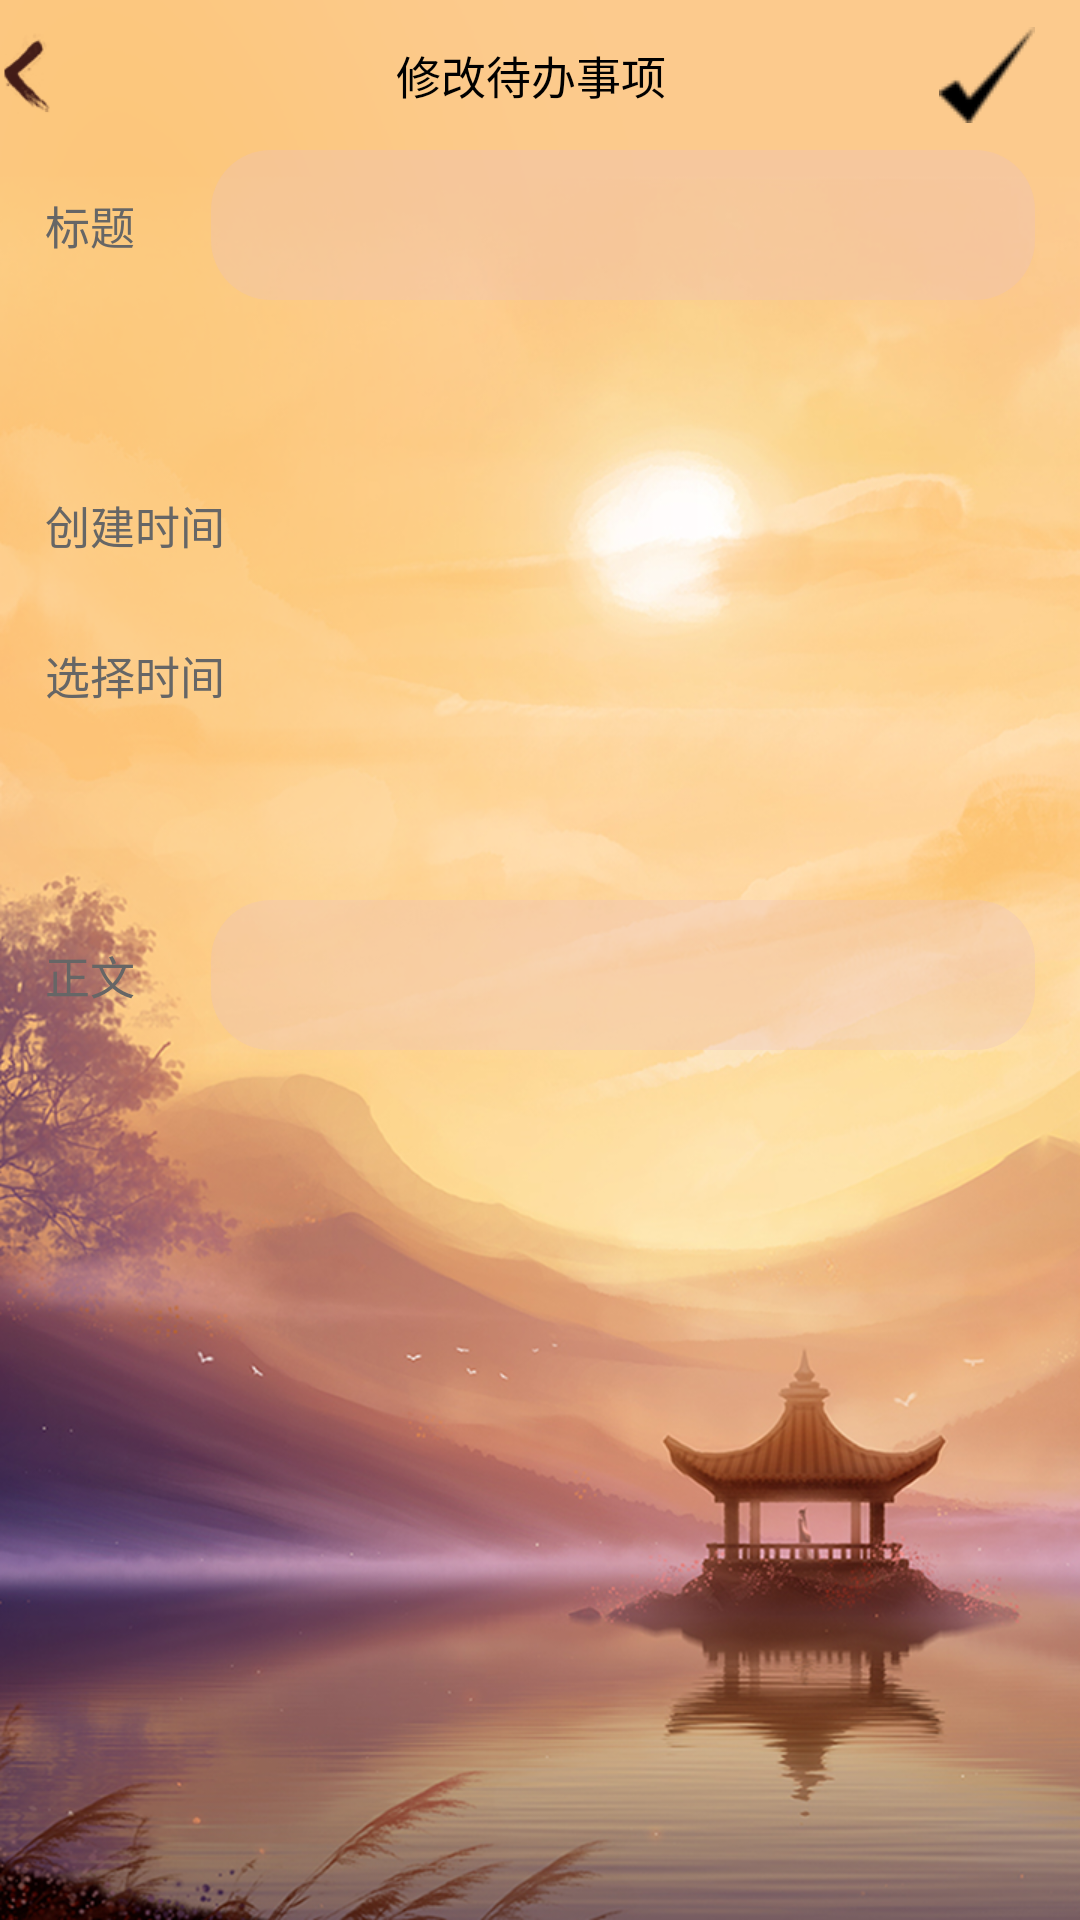

Screen size 1080*1920. Icon name, then its center in pixels as (x=x, y=y):
back: (x=26, y=76)
yes: (x=987, y=75)
